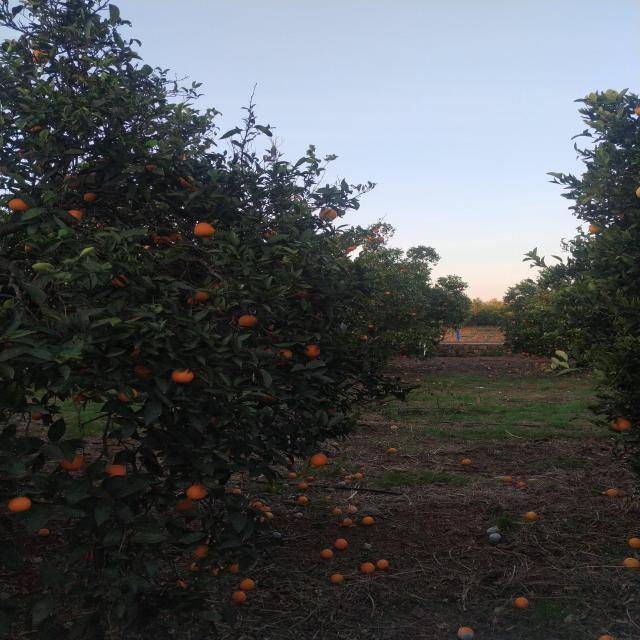Jeruk Sudah Matang: (8, 497, 32, 512), (61, 456, 85, 469), (7, 198, 29, 212), (172, 369, 194, 383), (611, 417, 632, 431), (194, 222, 214, 236), (319, 208, 338, 222), (118, 388, 138, 401), (134, 364, 154, 377), (239, 314, 258, 327), (106, 466, 126, 478), (186, 486, 206, 498), (192, 544, 209, 558), (310, 454, 328, 466), (622, 557, 640, 568), (114, 274, 130, 286), (304, 345, 320, 357), (360, 562, 376, 574), (588, 222, 604, 234), (175, 500, 193, 510), (240, 578, 255, 590), (232, 591, 247, 603), (67, 210, 83, 221), (334, 538, 348, 550), (276, 348, 292, 358), (514, 598, 530, 608), (228, 562, 242, 573), (154, 236, 170, 245), (84, 192, 96, 203), (321, 549, 334, 559), (331, 574, 344, 584), (341, 518, 354, 528), (362, 516, 374, 526), (628, 538, 640, 548), (526, 511, 538, 521), (195, 292, 209, 300), (170, 234, 183, 242), (38, 528, 49, 537), (32, 412, 44, 420), (376, 560, 388, 568), (606, 488, 618, 496), (298, 496, 308, 504), (252, 502, 262, 509), (71, 395, 81, 402), (298, 483, 308, 489), (261, 506, 270, 512), (264, 512, 272, 518), (344, 250, 350, 254), (348, 247, 355, 250), (374, 229, 379, 233), (370, 237, 375, 241), (362, 246, 368, 249), (380, 237, 384, 241)
